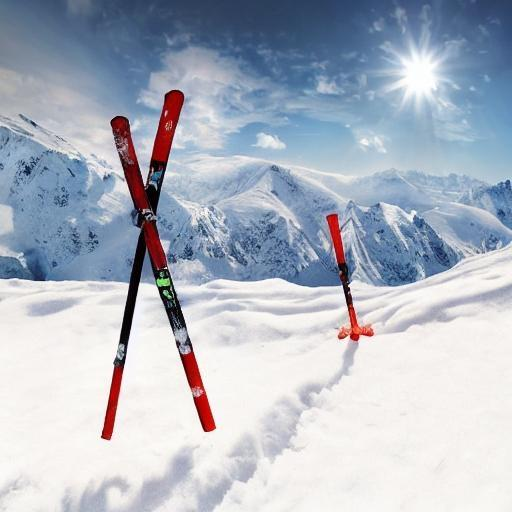Skis: (102, 112, 222, 434), (95, 82, 192, 446)
